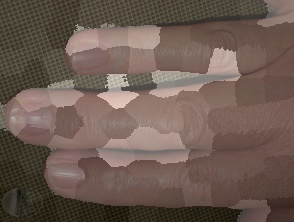Nail_psoriasis: (0, 92, 67, 149), (41, 153, 106, 199), (64, 33, 122, 78)
